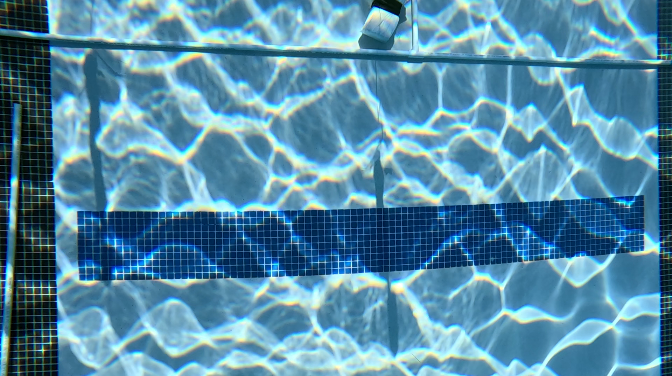sandbag: (361, 0, 409, 44)
